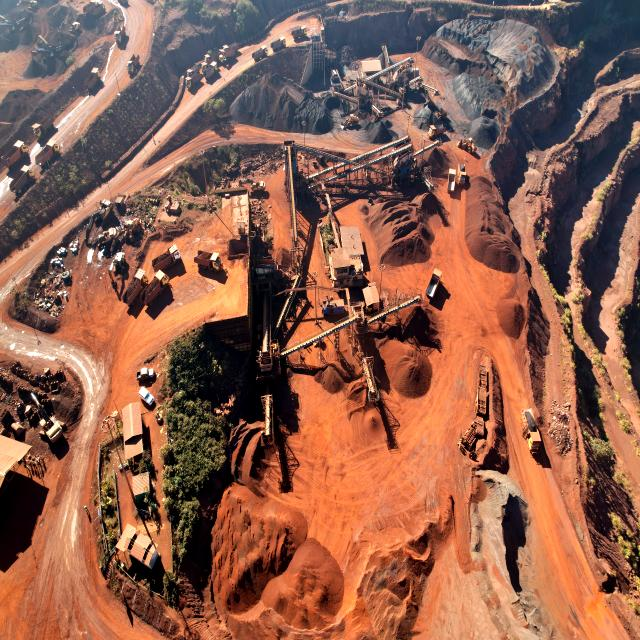Dumper truck: (124, 270, 148, 305), (145, 268, 168, 303), (523, 408, 540, 452), (0, 141, 28, 167), (152, 244, 180, 268), (11, 166, 36, 192), (36, 140, 60, 166), (195, 254, 221, 272), (32, 116, 53, 138), (427, 269, 442, 299), (428, 124, 446, 141), (85, 69, 101, 86), (448, 166, 457, 192), (200, 60, 217, 72), (128, 54, 138, 74), (185, 75, 203, 86), (115, 25, 126, 43), (94, 0, 105, 18), (458, 163, 467, 184), (84, 0, 95, 17), (255, 46, 268, 59), (272, 38, 286, 49), (294, 27, 306, 39), (205, 51, 218, 62), (220, 53, 232, 63)
Excavator: (31, 392, 65, 441), (86, 196, 113, 242), (109, 252, 127, 288), (240, 178, 265, 194), (60, 21, 81, 37), (16, 0, 39, 13)
car: (138, 384, 154, 403)
person: (84, 504, 89, 515), (26, 463, 31, 474), (39, 453, 44, 464), (31, 459, 36, 469)
